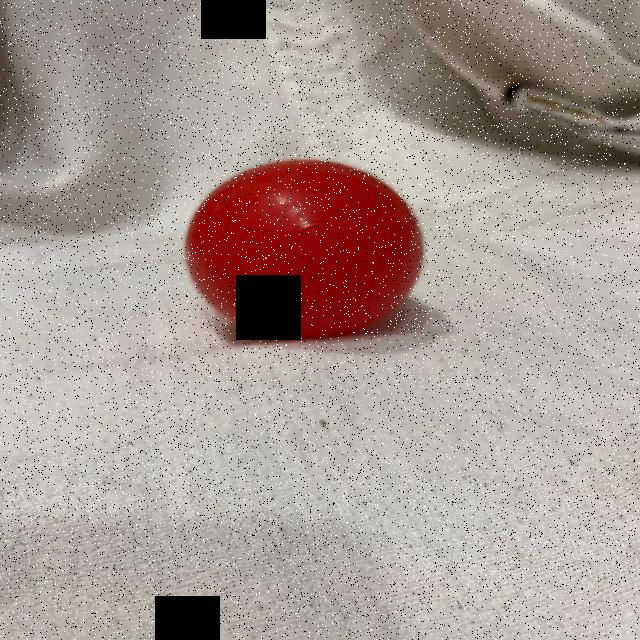ball: (182, 155, 430, 343)
